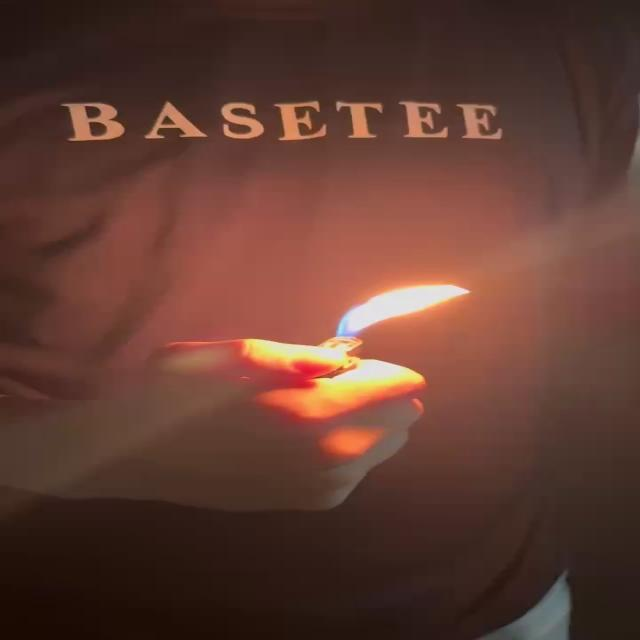Fire: (337, 281, 473, 342)
